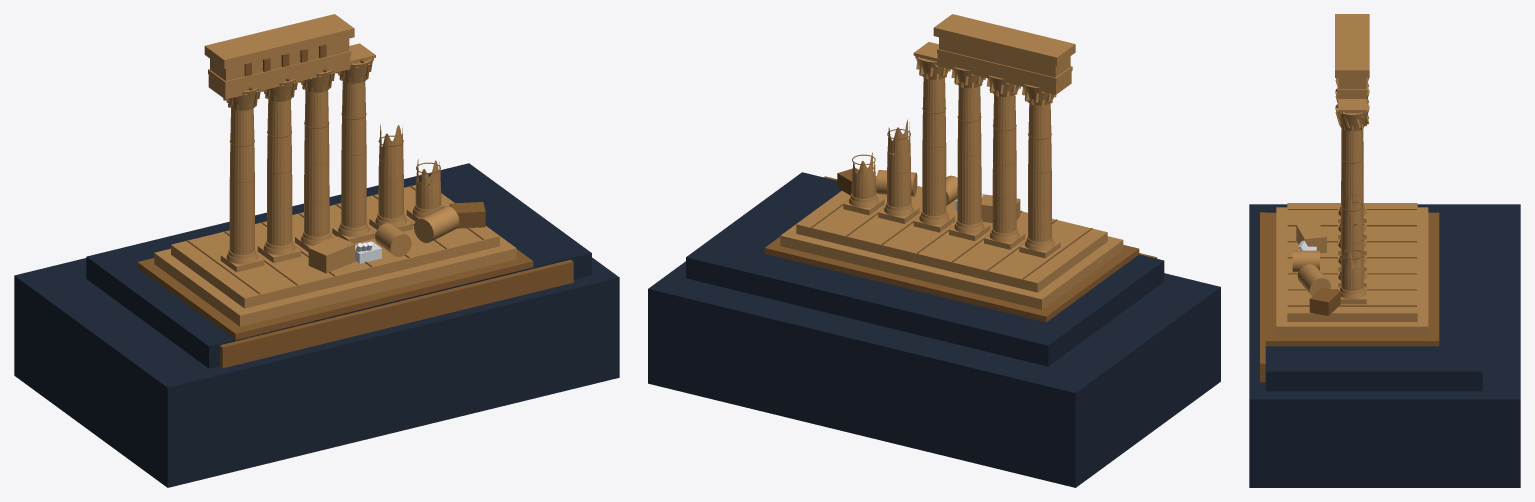
The model's file is citadel.glb.
3 views of the same model, side by side, from view 1: azimuth 30°, elevation 25°; view 2: azimuth 150°, elevation 25°; view 3: azimuth 270°, elevation 25° (orthographic). The views are drawn at different scales.
Parts seen in each view (by area): view 1: Amman_Citadel_Temple_Of_Hercules; view 2: Amman_Citadel_Temple_Of_Hercules; view 3: Amman_Citadel_Temple_Of_Hercules.
Boxes of the visible parts, x1,y1,x2,y2 form: Amman_Citadel_Temple_Of_Hercules: (14,14,619,487); Amman_Citadel_Temple_Of_Hercules: (648,14,1220,487); Amman_Citadel_Temple_Of_Hercules: (1249,14,1520,487).
Size of the model in its own units: 8.5 by 6.59 by 5.
